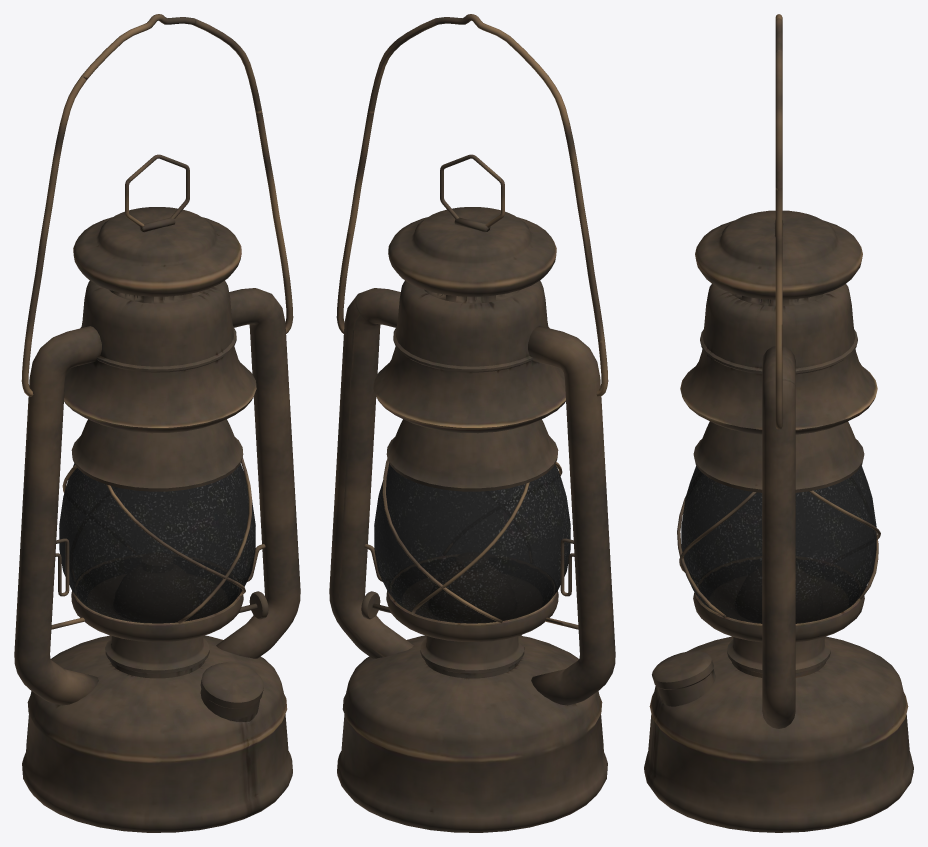
3 renders of one model, left to right at view 1: azimuth 30°, elevation 25°; view 2: azimuth 150°, elevation 25°; view 3: azimuth 270°, elevation 25°, orthographic.
Parts seen in each view (by area): view 1: SM_HurricaneLantern_Tank, SM_HurricaneLantern_Globe, SM_HurricaneLantern_Bell, SM_HurricaneLantern_Tube_L, SM_HurricaneLantern_Tube_R, SM_HurricaneLantern_Lid, SM_HurricaneLantern_GlobeCollar, SM_HurricaneLantern_Bail, SM_HurricaneLantern_GlobeSeat, SM_HurricaneLantern_Burner, SM_HurricaneLantern_BurnerNeck, SM_HurricaneLantern_FuelCap (+3 smaller); view 2: SM_HurricaneLantern_Tank, SM_HurricaneLantern_Globe, SM_HurricaneLantern_Bell, SM_HurricaneLantern_Tube_L, SM_HurricaneLantern_Tube_R, SM_HurricaneLantern_Lid, SM_HurricaneLantern_GlobeCollar, SM_HurricaneLantern_Bail, SM_HurricaneLantern_GlobeSeat, SM_HurricaneLantern_BurnerNeck, SM_HurricaneLantern_Burner, SM_HurricaneLantern (+2 smaller); view 3: SM_HurricaneLantern_Tank, SM_HurricaneLantern_Globe, SM_HurricaneLantern_Bell, SM_HurricaneLantern_Tube_R, SM_HurricaneLantern_Lid, SM_HurricaneLantern_GlobeCollar, SM_HurricaneLantern_GlobeSeat, SM_HurricaneLantern_Bail, SM_HurricaneLantern_FuelCap, SM_HurricaneLantern_BurnerNeck, SM_HurricaneLantern_Burner, SM_HurricaneLantern (+1 smaller).
Part boxes in pixels (x1,y1,x2,y2): SM_HurricaneLantern_Tank: [22, 635, 292, 832]; SM_HurricaneLantern_Globe: [59, 463, 255, 623]; SM_HurricaneLantern_Bell: [64, 280, 256, 433]; SM_HurricaneLantern_Tube_L: [14, 326, 101, 705]; SM_HurricaneLantern_Tube_R: [216, 288, 300, 658]; SM_HurricaneLantern_Lid: [73, 207, 241, 296]; SM_HurricaneLantern_GlobeCollar: [71, 419, 243, 491]; SM_HurricaneLantern_Bail: [21, 14, 293, 396]; SM_HurricaneLantern_GlobeSeat: [71, 555, 243, 642]; SM_HurricaneLantern_Burner: [114, 552, 200, 622]; SM_HurricaneLantern_BurnerNeck: [105, 636, 209, 678]; SM_HurricaneLantern_FuelCap: [200, 662, 263, 721]; SM_HurricaneLantern_Tank: [337, 635, 607, 832]; SM_HurricaneLantern_Globe: [374, 463, 570, 623]; SM_HurricaneLantern_Bell: [373, 280, 565, 433]; SM_HurricaneLantern_Tube_L: [528, 326, 615, 705]; SM_HurricaneLantern_Tube_R: [329, 288, 413, 658]; SM_HurricaneLantern_Lid: [388, 207, 556, 296]; SM_HurricaneLantern_GlobeCollar: [386, 419, 558, 491]; SM_HurricaneLantern_Bail: [336, 14, 608, 396]; SM_HurricaneLantern_GlobeSeat: [386, 555, 558, 642]; SM_HurricaneLantern_BurnerNeck: [420, 636, 524, 678]; SM_HurricaneLantern_Burner: [429, 552, 515, 622]; SM_HurricaneLantern: [382, 458, 562, 623]; SM_HurricaneLantern_Tank: [644, 636, 913, 832]; SM_HurricaneLantern_Globe: [681, 465, 876, 623]; SM_HurricaneLantern_Bell: [680, 284, 877, 434]; SM_HurricaneLantern_Tube_R: [762, 346, 795, 728]; SM_HurricaneLantern_Lid: [695, 210, 862, 299]; SM_HurricaneLantern_GlobeCollar: [693, 421, 864, 492]; SM_HurricaneLantern_GlobeSeat: [693, 556, 864, 642]; SM_HurricaneLantern_Bail: [775, 14, 782, 429]; SM_HurricaneLantern_FuelCap: [652, 651, 715, 706]; SM_HurricaneLantern_BurnerNeck: [727, 637, 830, 677]; SM_HurricaneLantern_Burner: [735, 566, 822, 621]; SM_HurricaneLantern: [677, 490, 880, 617].
Bounding box in the file's own units: 0.1388 × 0.3599 × 0.1156.
5 materials, 5 textured.
